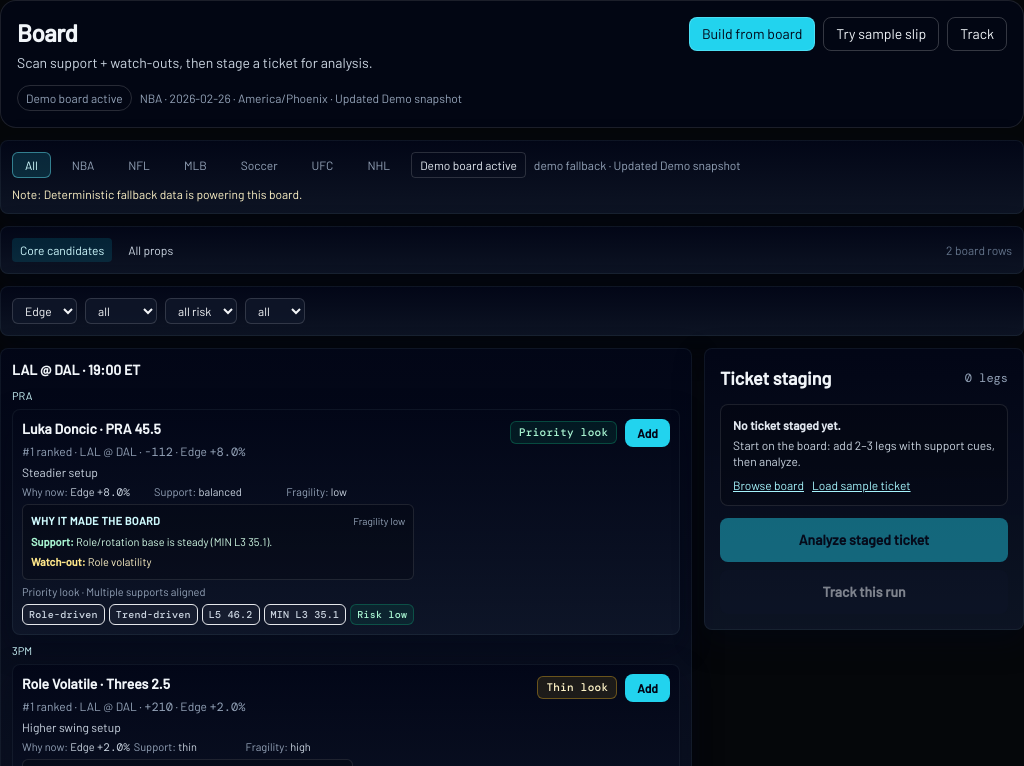
it: TodayPageClient › renders ranked decision-tier row cues and carries board rationale into staging
expect the text "#1 ranked · LAL @ DAL · -112 · Edge +8.0%" is shown: met, box x1=22 y1=444 x2=245 y2=460
expect the text "Priority look · Multiple supports aligned" is shown: met, box x1=22 y1=584 x2=205 y2=598
Click the button "Add" in the row of "-112".
click(648, 432)  # box x1=625 y1=418 x2=670 y2=446
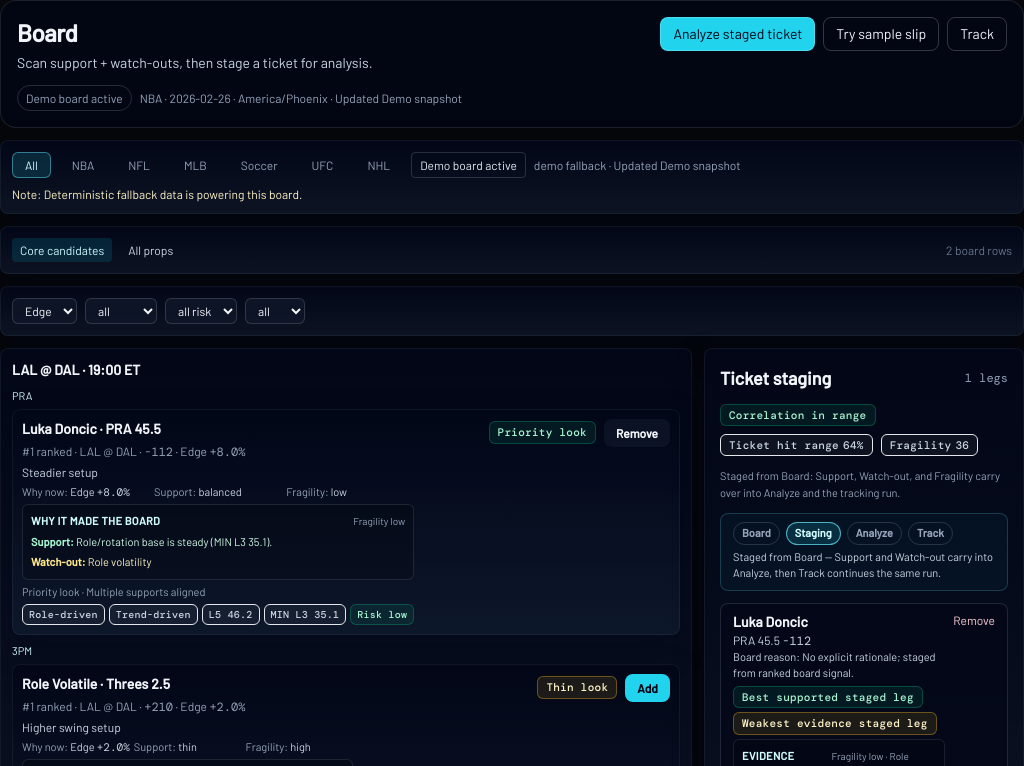
expect the text "Why it made the board" is shown: met, box x1=31 y1=513 x2=160 y2=530
expect the text "Board reason:" is shown: met, box x1=733 y1=650 x2=800 y2=662
expect the text "Staged from Board: Support, Watch-out, and Fragility carry over into Analyze and the tracking run." is shown: met, box x1=720 y1=469 x2=1000 y2=498
